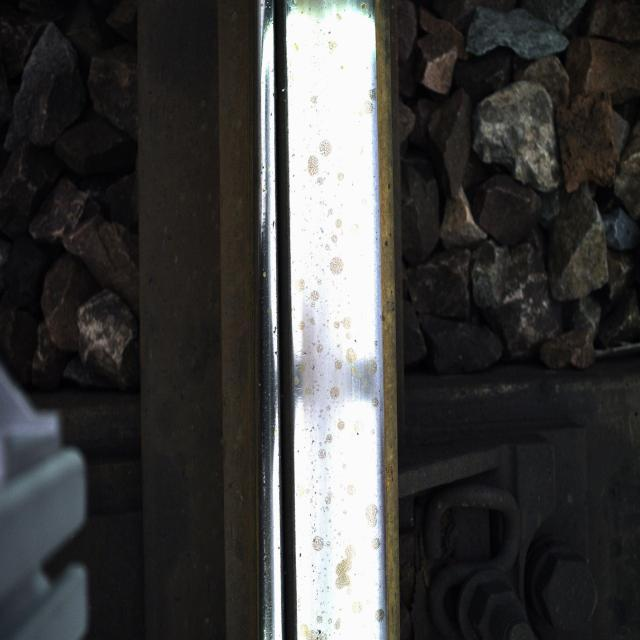scar: (296, 24, 364, 621)
